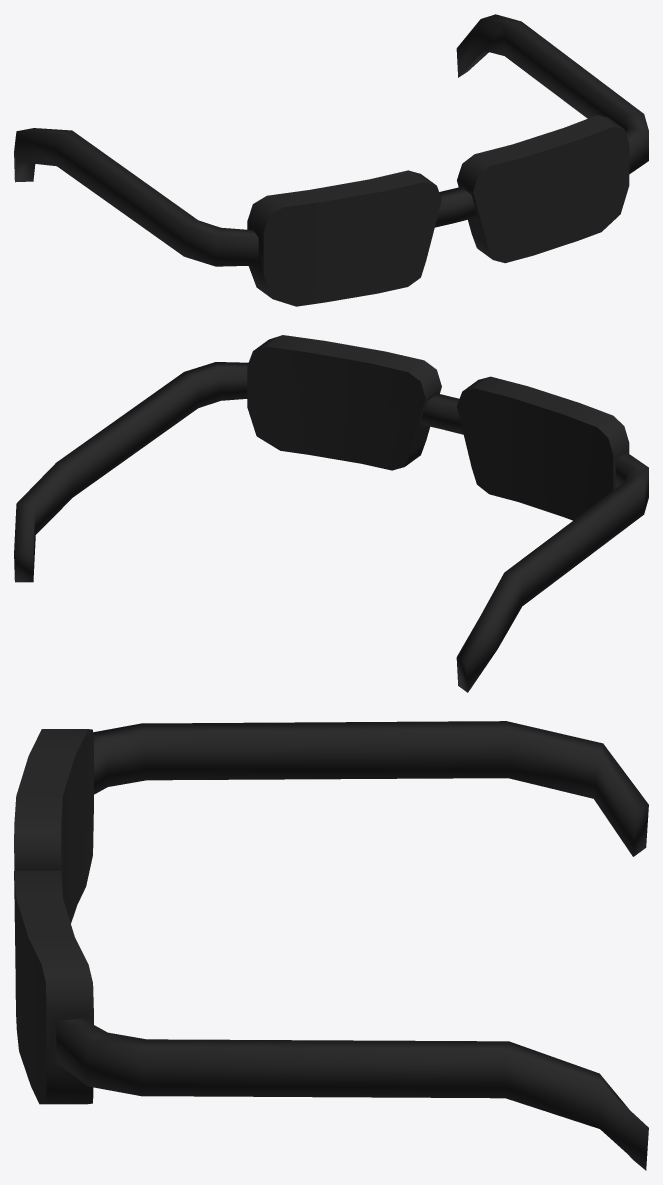
The model's file is Glasses_05.fbx.
3 views of the same model, one above another, from view 1: azimuth 30°, elevation 25°; view 2: azimuth 150°, elevation 25°; view 3: azimuth 270°, elevation 25° (orthographic). The views are drawn at different scales.
Parts seen in each view (by area): view 1: Glasses_05; view 2: Glasses_05; view 3: Glasses_05.
Part boxes in pixels (left/top/right/bottom): Glasses_05: left=14, top=14, right=648, bottom=306; Glasses_05: left=14, top=335, right=648, bottom=692; Glasses_05: left=14, top=721, right=648, bottom=1170.
Bounding box in the file's own units: 73.39 × 16.2 × 57.43.
